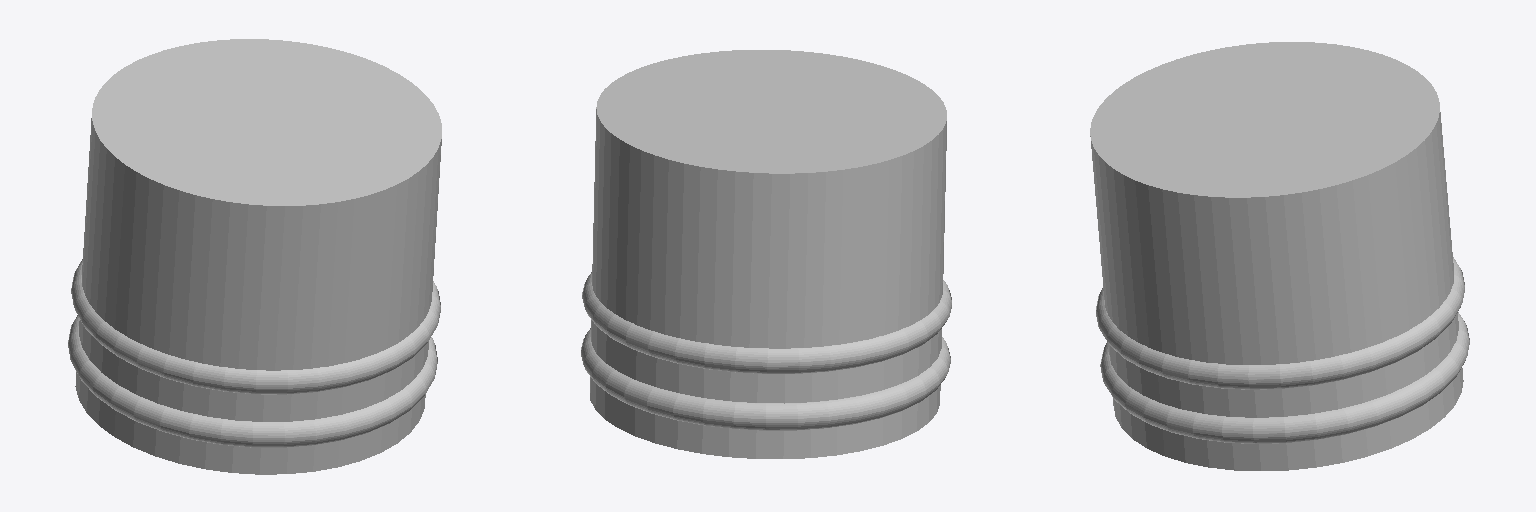
File: bombilla237.obj
The picture shows the model from 3 angles: view 1: azimuth 30°, elevation 25°; view 2: azimuth 150°, elevation 25°; view 3: azimuth 270°, elevation 25°; orthographic projection.
Visible parts, largest first — view 1: Cylinder001, Cylinder004, Cylinder002, Cylinder003, Cylinder006; view 2: Cylinder001, Cylinder004, Cylinder003, Cylinder006, Cylinder002; view 3: Cylinder001, Cylinder004, Cylinder003, Cylinder002, Cylinder006.
Boxes of the visible parts, box(x1,y1,x2,y2) form: Cylinder001: box(82, 39, 441, 370); Cylinder004: box(68, 315, 437, 447); Cylinder002: box(71, 259, 440, 394); Cylinder003: box(79, 320, 428, 421); Cylinder006: box(75, 372, 425, 474); Cylinder001: box(592, 50, 946, 348); Cylinder004: box(581, 328, 950, 430); Cylinder003: box(591, 320, 941, 403); Cylinder006: box(590, 377, 940, 458); Cylinder002: box(582, 272, 951, 373); Cylinder001: box(1090, 42, 1453, 364); Cylinder004: box(1100, 312, 1469, 443); Cylinder003: box(1108, 313, 1458, 417); Cylinder002: box(1096, 257, 1464, 389); Cylinder006: box(1113, 368, 1463, 470).
Bounding box in the file's own units: 72.45 × 64.78 × 74.07.